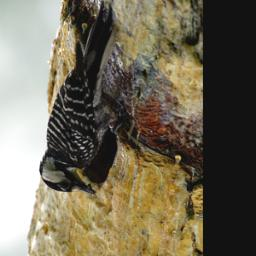Woodpecker: (38, 0, 135, 196)
